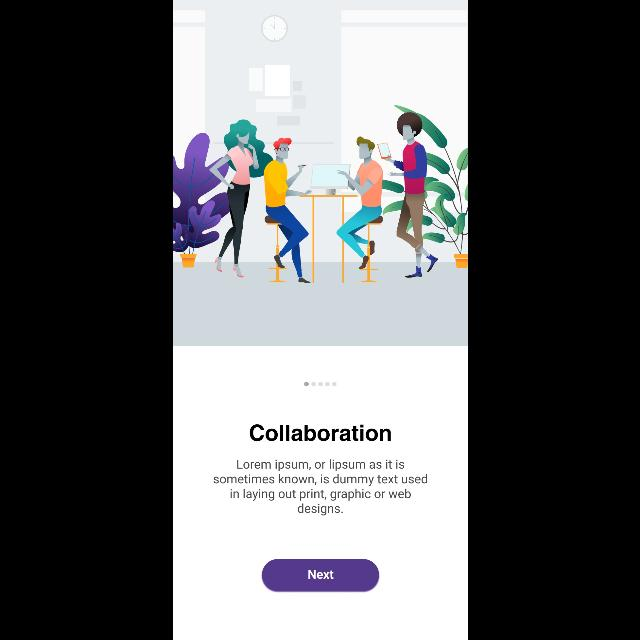image: (173, 1, 467, 346)
pageindicator: (304, 382, 336, 386)
text: (213, 460, 427, 516), (250, 424, 390, 442)
textbutton: (261, 558, 379, 592)
